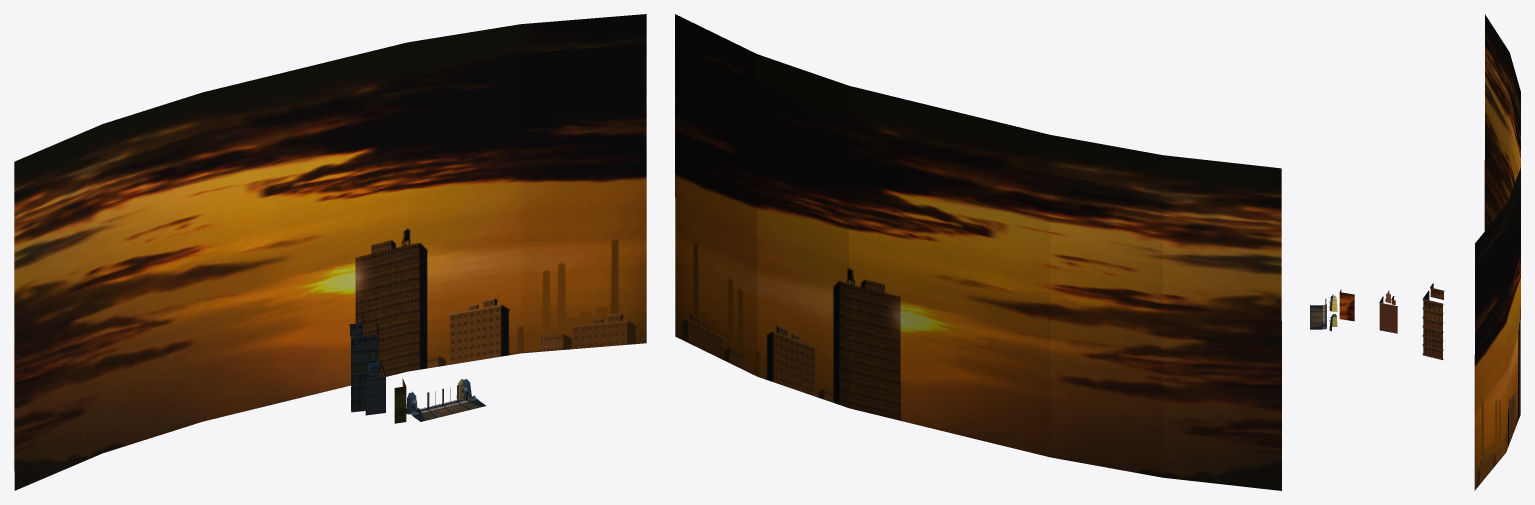
File: UMK3iOSBridge.glb
3 views of the same model, side by side, from view 1: azimuth 30°, elevation 25°; view 2: azimuth 150°, elevation 25°; view 3: azimuth 270°, elevation 25° (orthographic). The views are drawn at different scales.
Visible parts, largest first — view 1: 1_skyplane, 3_4; view 2: 1_skyplane; view 3: 1_skyplane, 3_4, 0_1, 2_3.
Boxes of the visible parts, x1,y1,x2,y2 form: 1_skyplane: (14, 14, 646, 490); 3_4: (349, 315, 406, 423); 1_skyplane: (675, 14, 1281, 490); 1_skyplane: (1474, 14, 1520, 490); 3_4: (1339, 283, 1444, 359); 0_1: (1310, 305, 1322, 329); 2_3: (1322, 294, 1337, 331).
Bounding box in the file's own units: 373 × 188 × 145.
5 materials, 5 textured.
